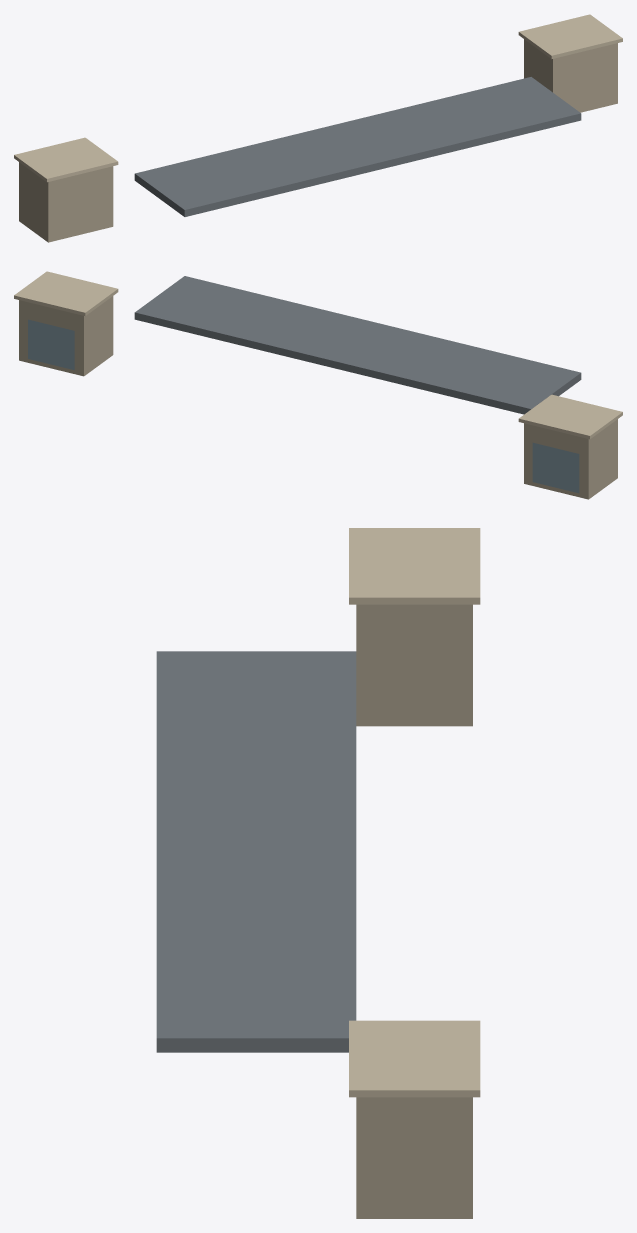
3 renders of one model, top to bottom at view 1: azimuth 30°, elevation 25°; view 2: azimuth 150°, elevation 25°; view 3: azimuth 270°, elevation 25°, orthographic. The views are drawn at different scales.
Parts seen in each view (by area): view 1: penn-station-lod3; view 2: penn-station-lod3; view 3: penn-station-lod3.
Part boxes in pixels (bbox=[...]): penn-station-lod3: bbox=[14, 14, 622, 242]; penn-station-lod3: bbox=[14, 271, 622, 499]; penn-station-lod3: bbox=[156, 528, 480, 1218].
Bounding box in the file's own units: 176 × 19.18 × 42.79.
